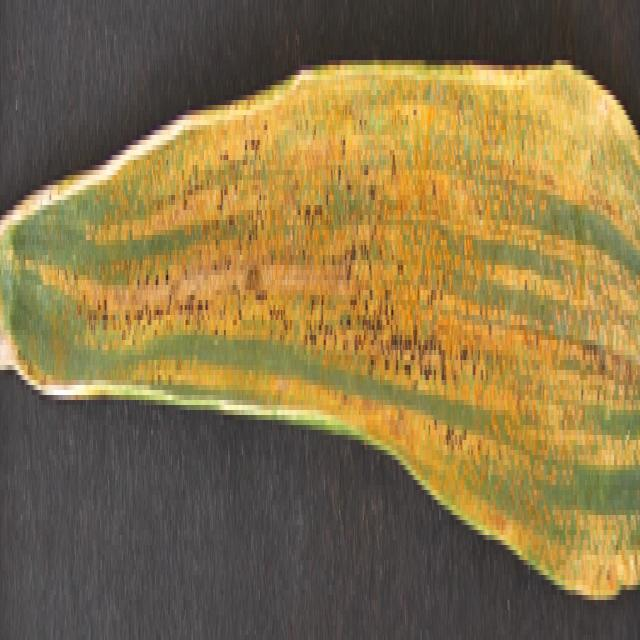leaf rust: (88, 40, 640, 575)
